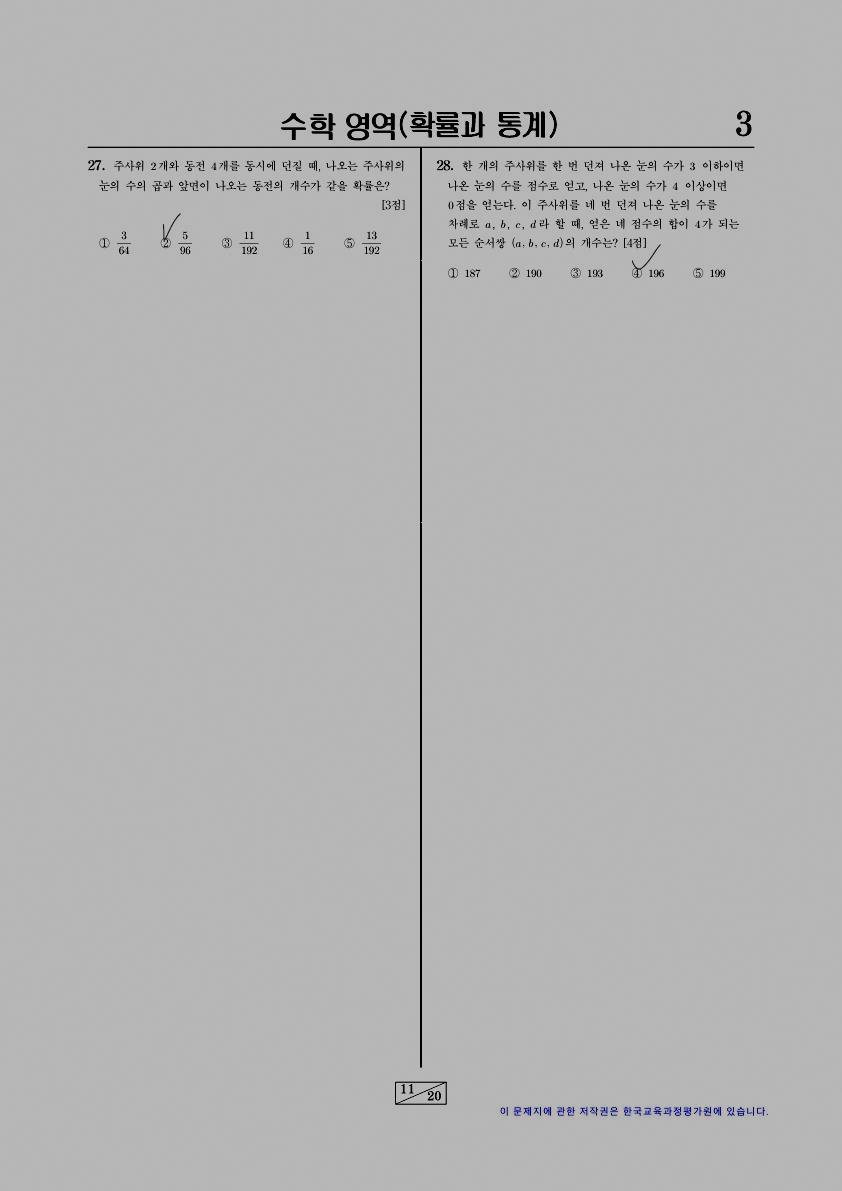question: (420, 147, 755, 295), (77, 149, 415, 270)
